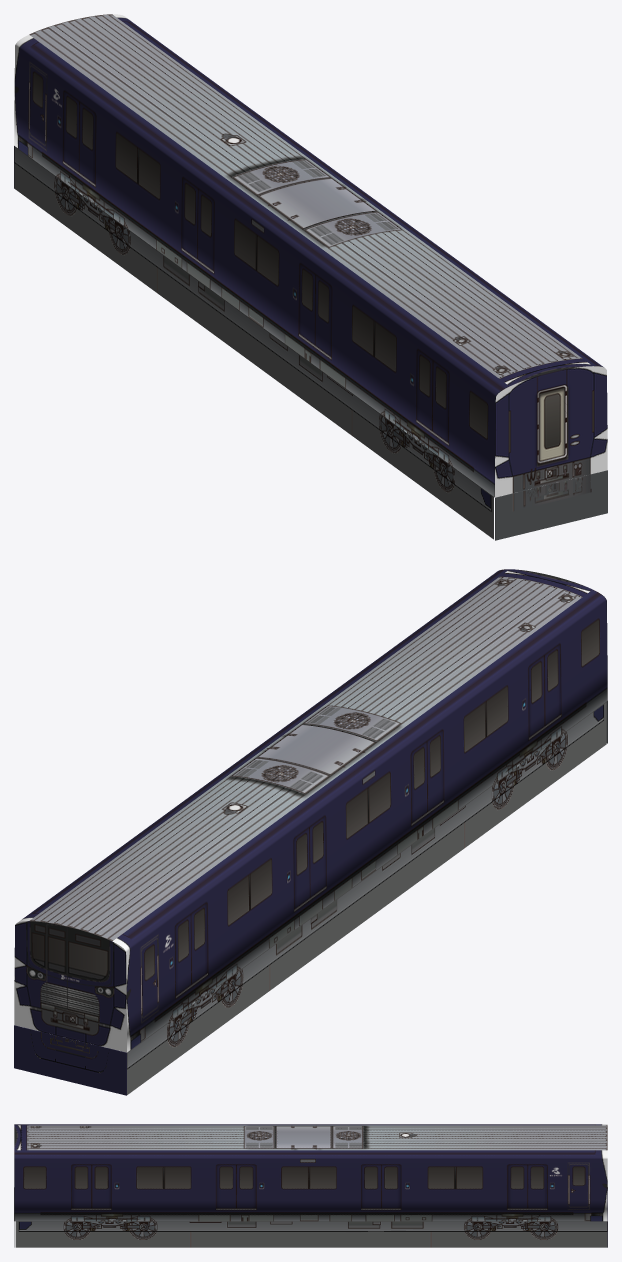
File: car3.glb
The picture shows the model from 3 angles, top to bottom: view 1: azimuth 30°, elevation 25°; view 2: azimuth 150°, elevation 25°; view 3: azimuth 270°, elevation 25°; orthographic projection. The views are drawn at different scales.
Visible parts, largest first — view 1: sotetsu-21000-car3; view 2: sotetsu-21000-car3; view 3: sotetsu-21000-car3.
Boxes of the visible parts, x1,y1,x2,y2 form: sotetsu-21000-car3: (14,14,607,540); sotetsu-21000-car3: (14,569,607,1095); sotetsu-21000-car3: (14,1124,607,1247).
Bounding box in the file's own units: 2.77 × 3.62 × 20.5.
Materials: 8 (7 with a texture image).
